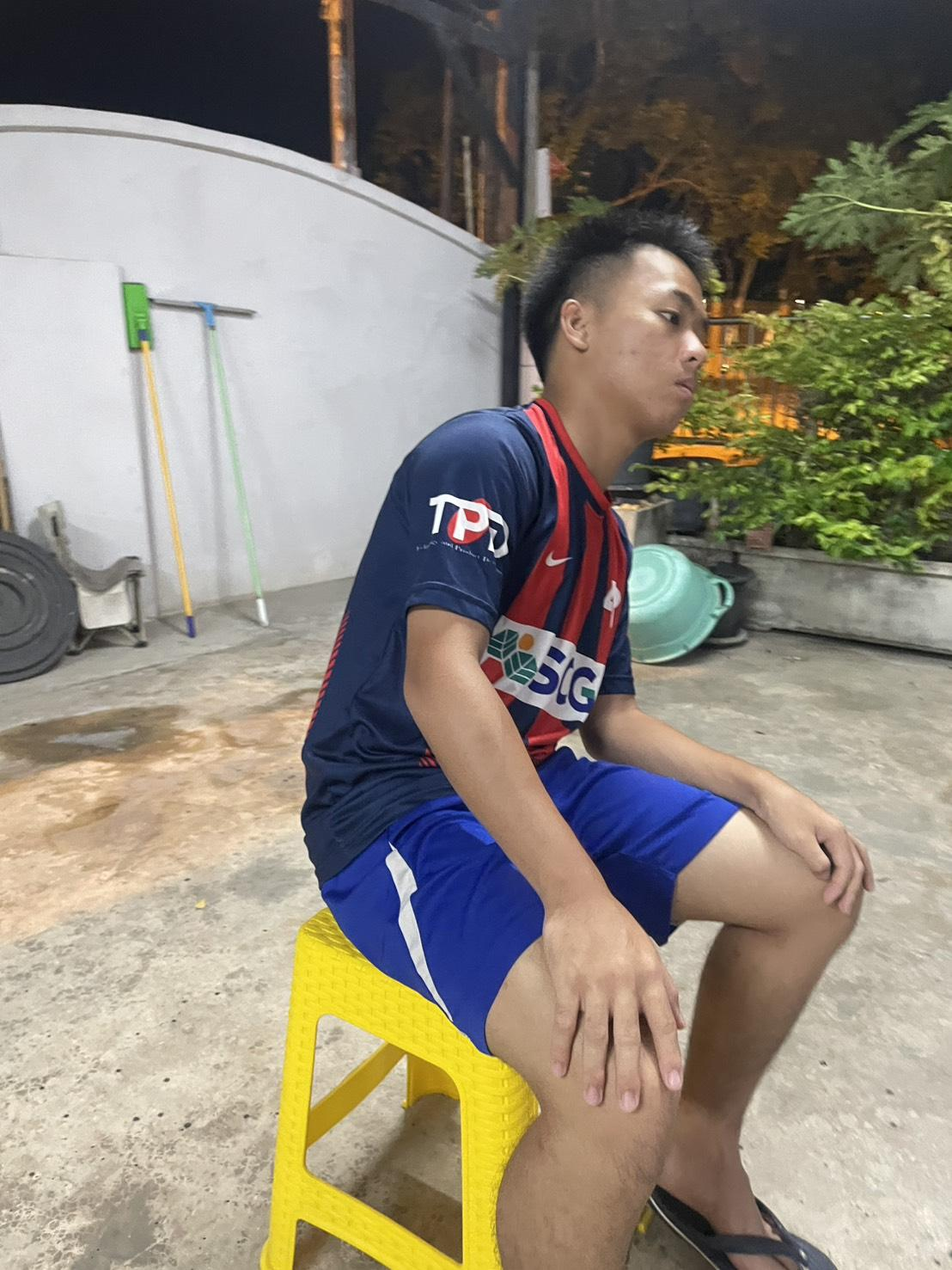BadPosture: (300, 241, 766, 880)
